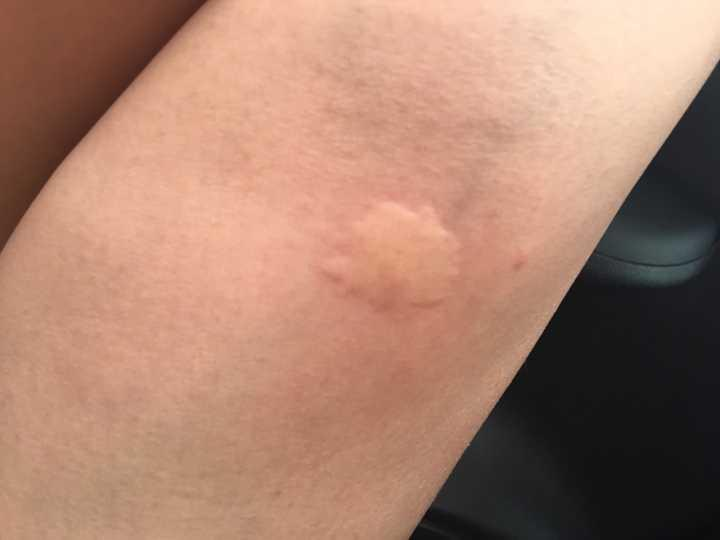Mosquito: (314, 174, 479, 331)
